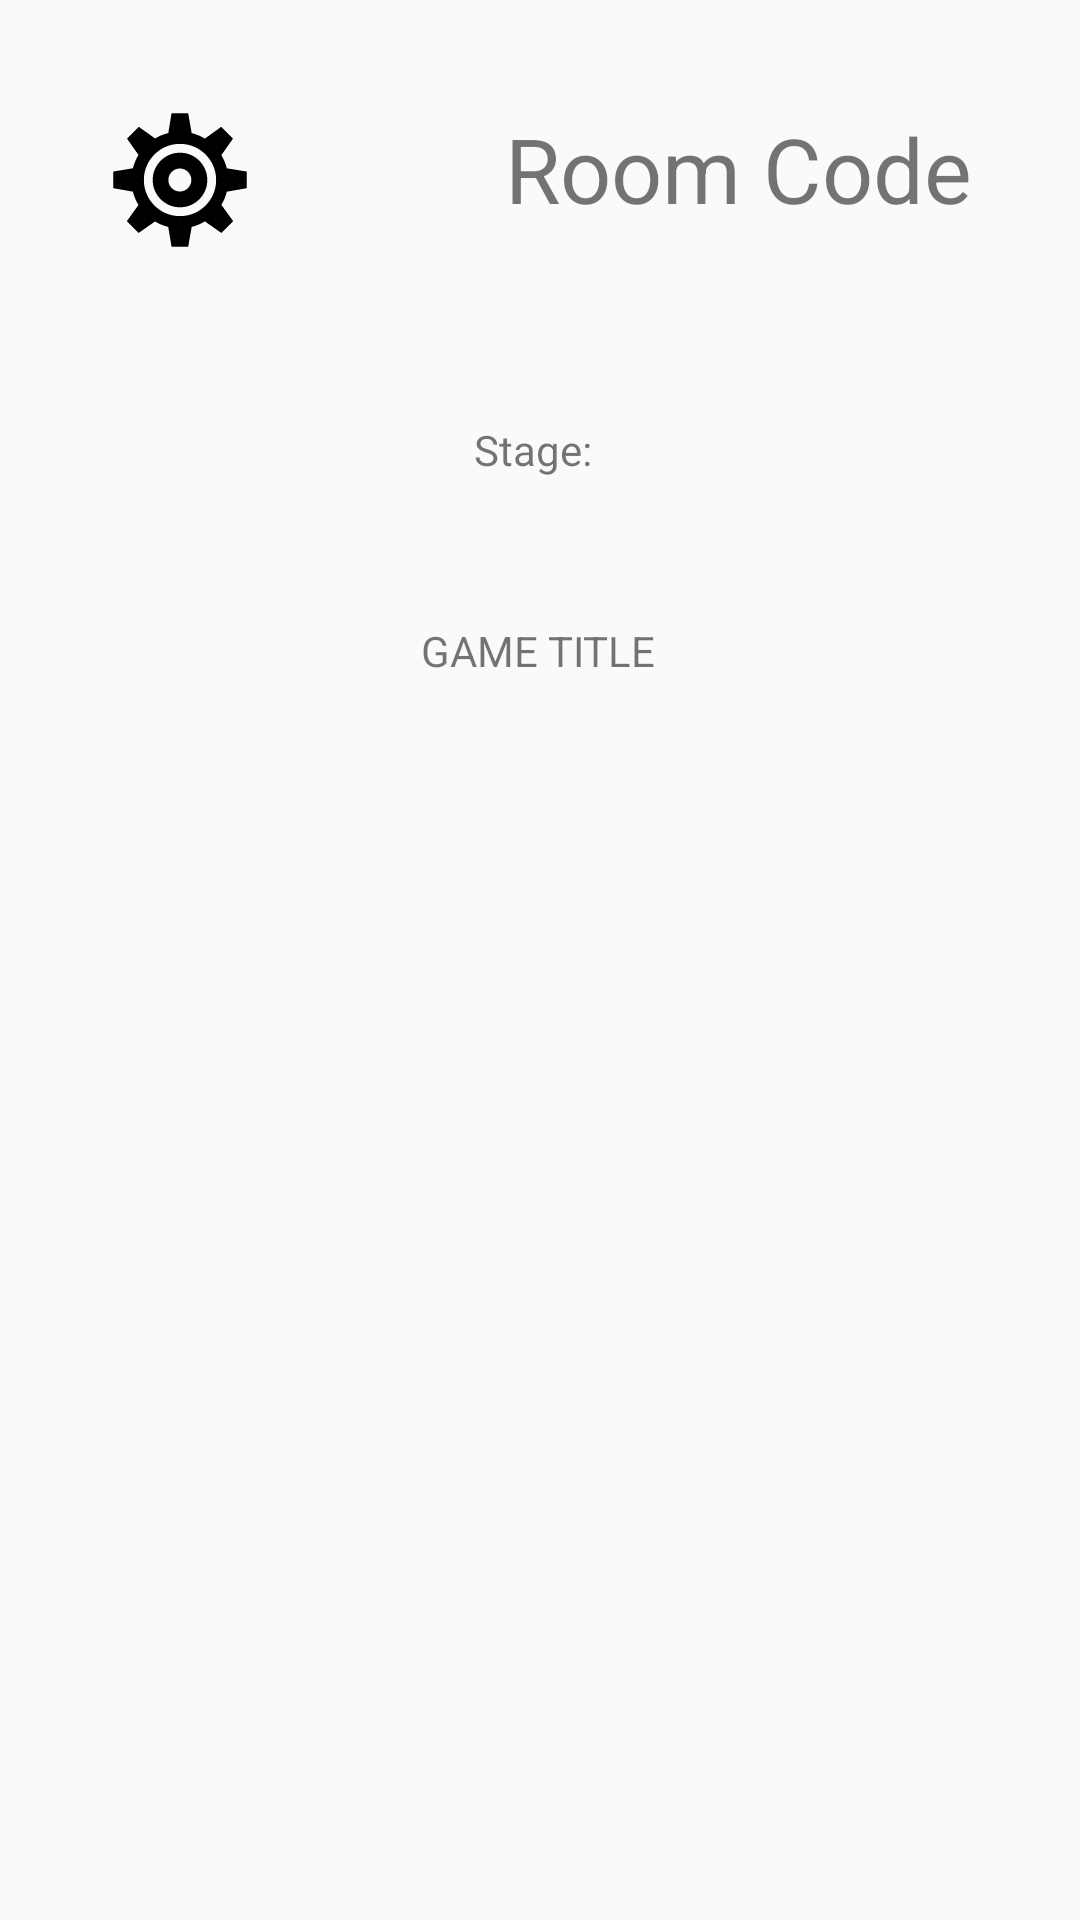

Where to tap for icons on this 1080*1920 app screen, as (x,y):
settings: (180,180)
